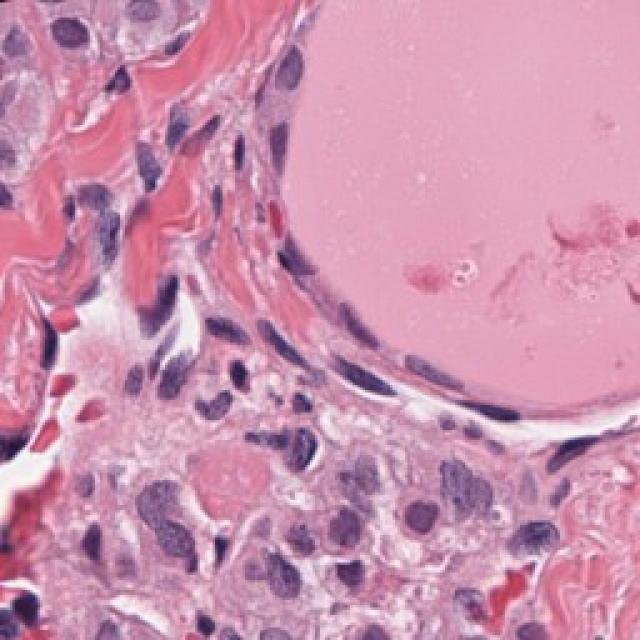normal: (251, 97, 351, 179), (138, 324, 226, 411), (318, 343, 403, 423), (37, 8, 122, 79), (141, 506, 211, 587), (451, 389, 516, 446), (322, 489, 378, 551)
